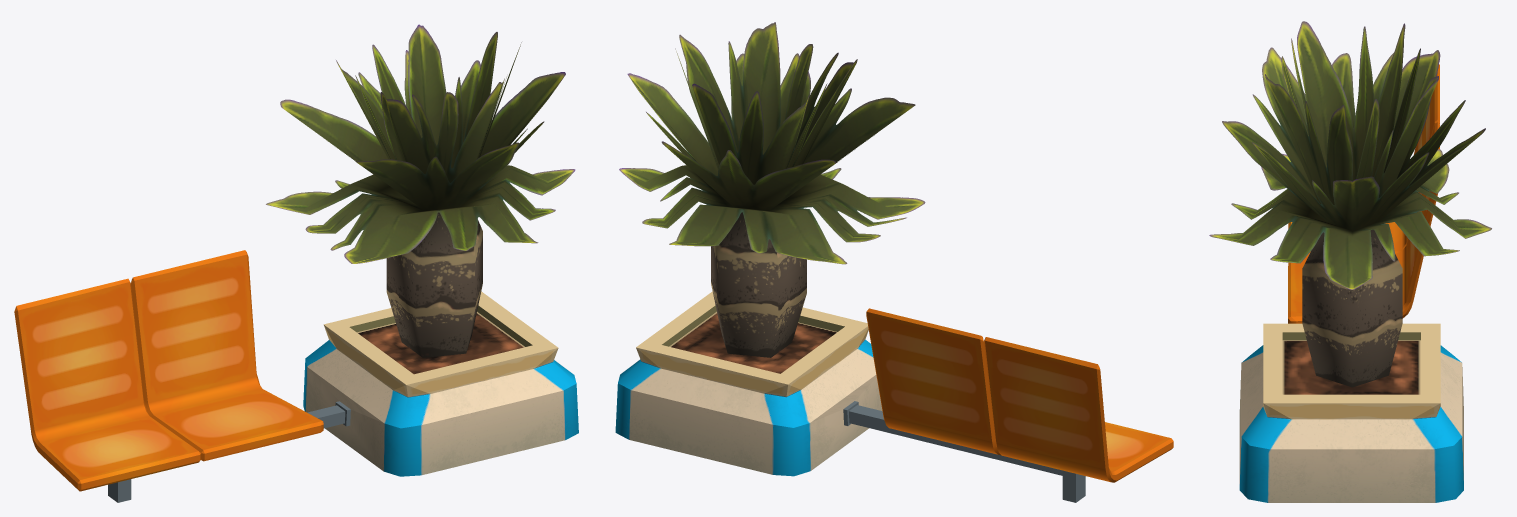
The model's file is banc.fbx.
The picture shows the model from 3 angles, left to right: view 1: azimuth 30°, elevation 25°; view 2: azimuth 150°, elevation 25°; view 3: azimuth 270°, elevation 25°; orthographic projection. The views are drawn at different scales.
Visible parts, largest first — view 1: banc; view 2: banc; view 3: banc.
Boxes of the visible parts, bbox=[...] form: banc: bbox=[14, 24, 578, 502]; banc: bbox=[615, 22, 1173, 502]; banc: bbox=[1209, 21, 1491, 502].
Bounding box in the file's own units: 1.83 × 1.21 × 0.8312.
